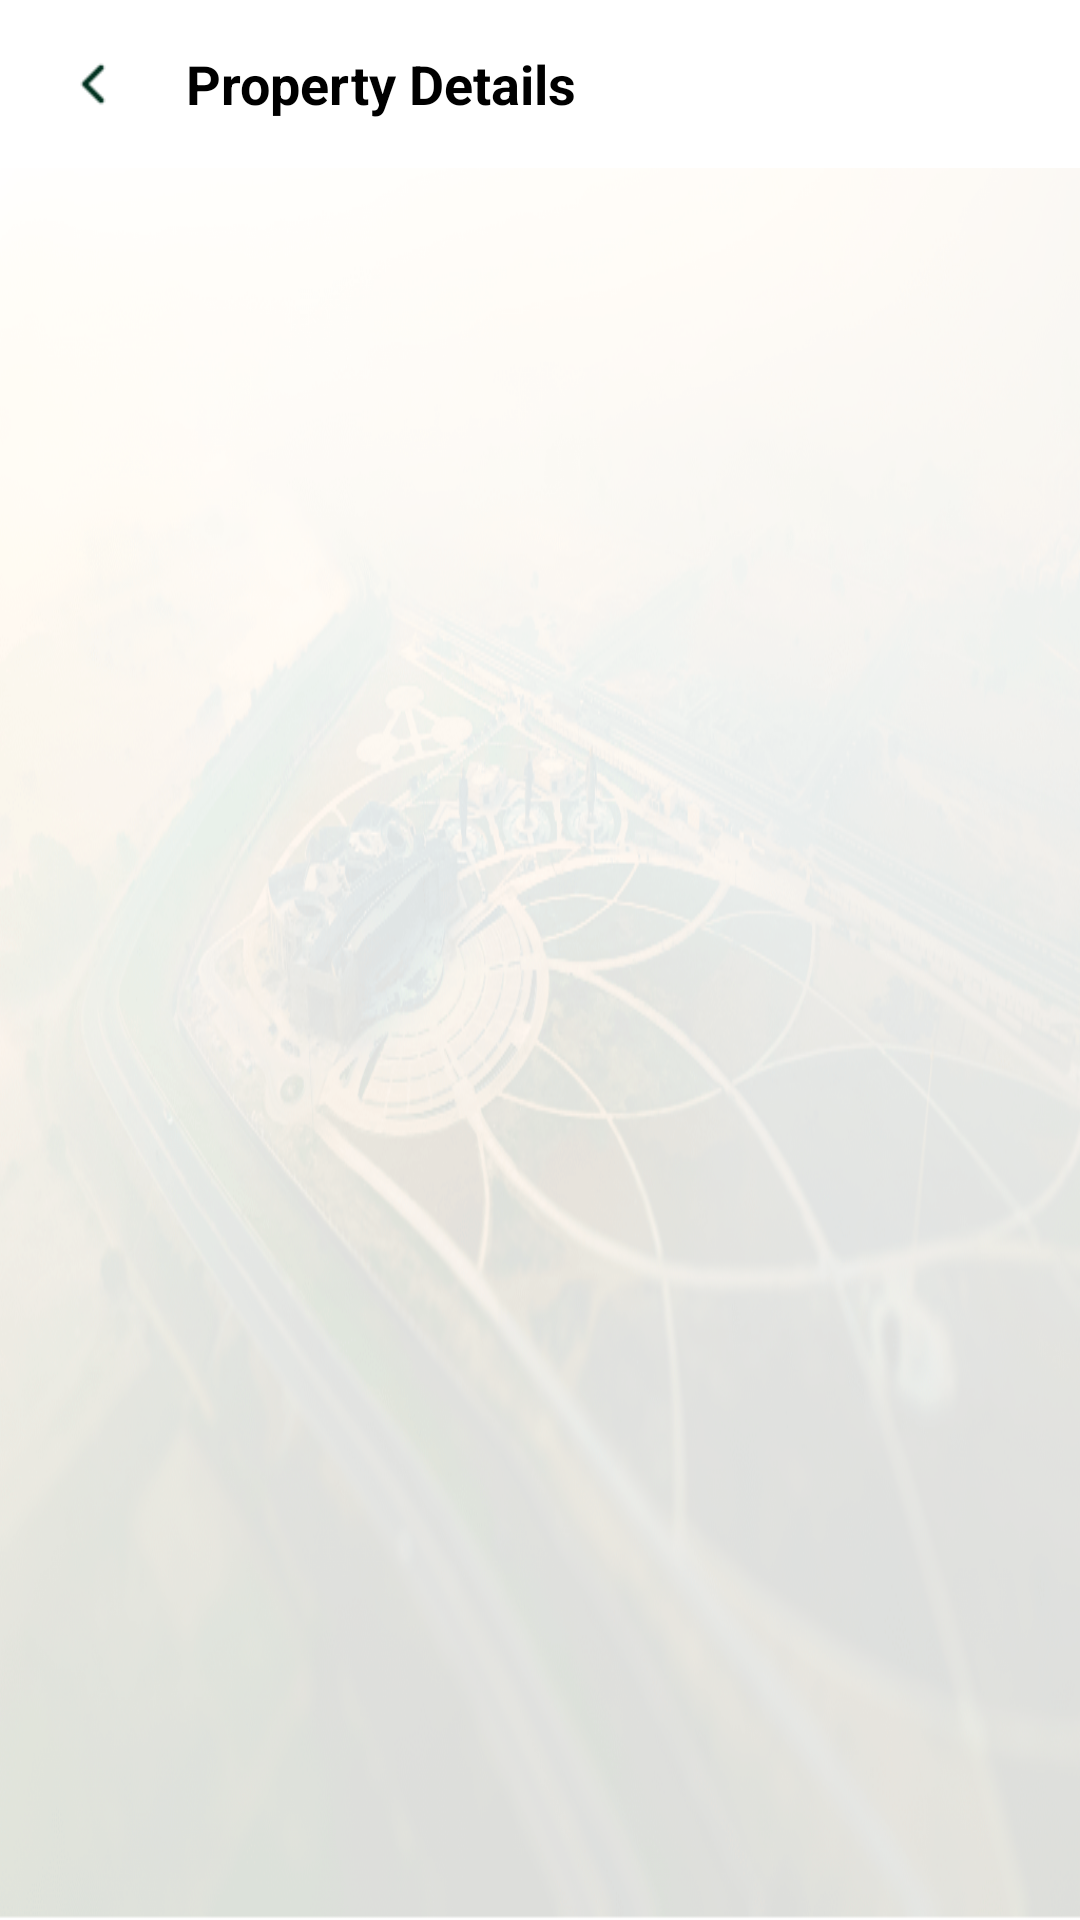

Screen size 1080x1920. Icon name, then its box in pixels as (x1, y1, x2, y2):
left: (81, 64, 105, 105)
